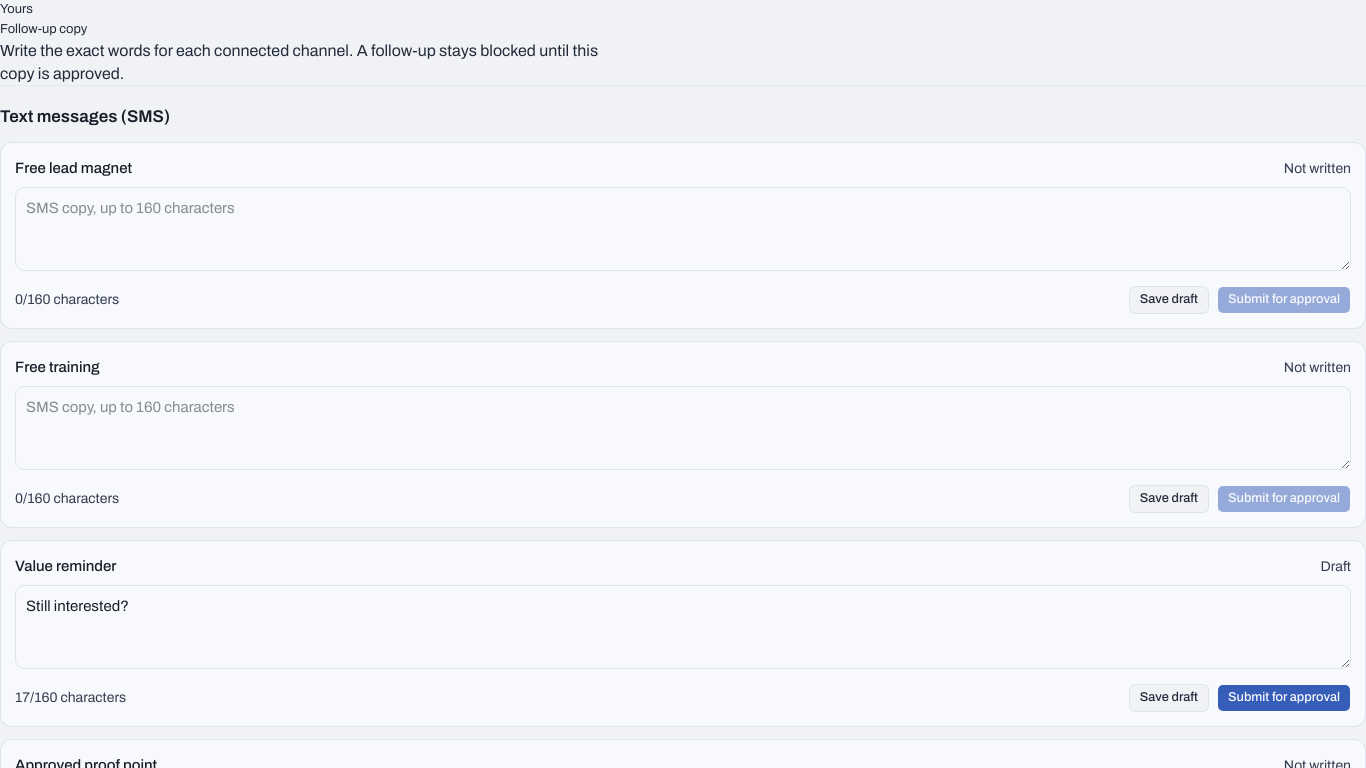
Test case: FollowupCopyAuthoring › saves a draft through the tenant-scoped route and reports the persisted receipt
The width and height of the screenshot is (1366, 768).
What coordinates should you click on to do the following:
click the button "Save draft" in the row of "17/160 characters"
I would click on:
 (1169, 698)
Its box is [1129,684,1209,712].
(page scrolled)
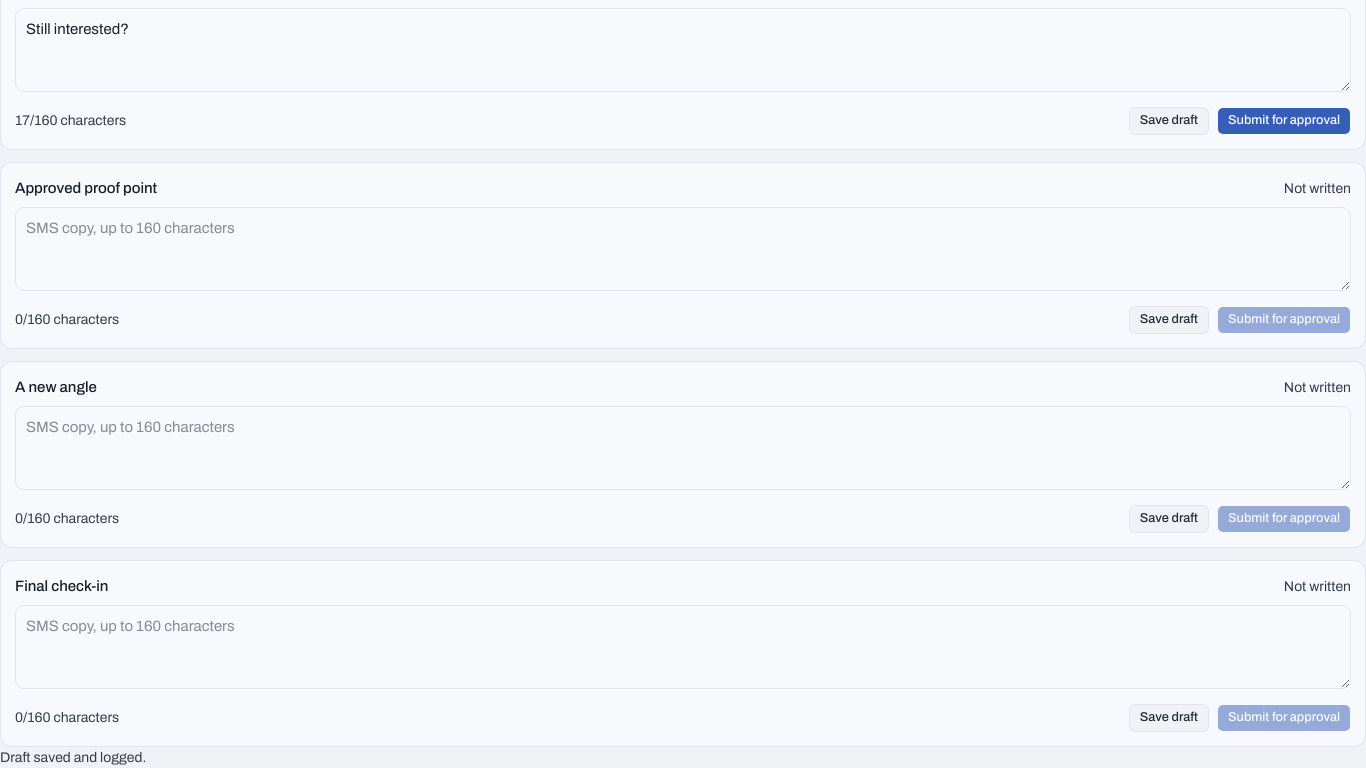
Check: the text "Draft saved and logged." is shown, box [0,750,146,765]
